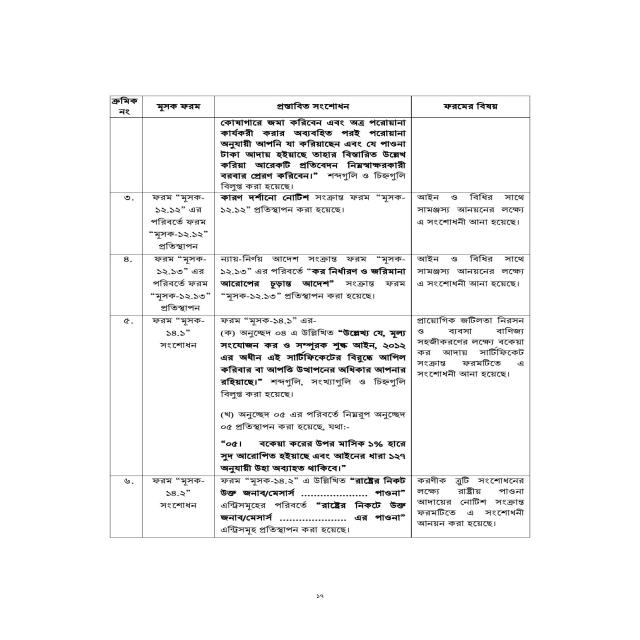page number: (316, 593, 324, 599)
table: (109, 95, 531, 538)
text: (219, 118, 407, 192), (219, 328, 408, 400), (218, 476, 407, 536), (219, 254, 407, 302), (416, 316, 525, 379), (219, 439, 407, 474), (416, 476, 525, 528), (218, 193, 407, 215), (220, 409, 406, 431), (415, 193, 526, 227), (415, 254, 525, 288), (148, 193, 209, 252), (149, 255, 211, 312), (151, 317, 206, 349), (151, 477, 206, 509), (219, 317, 318, 327), (275, 100, 351, 110), (110, 96, 139, 116), (443, 102, 498, 111), (155, 103, 204, 113), (122, 194, 134, 202), (122, 256, 134, 264), (123, 318, 135, 325), (123, 478, 135, 485)
